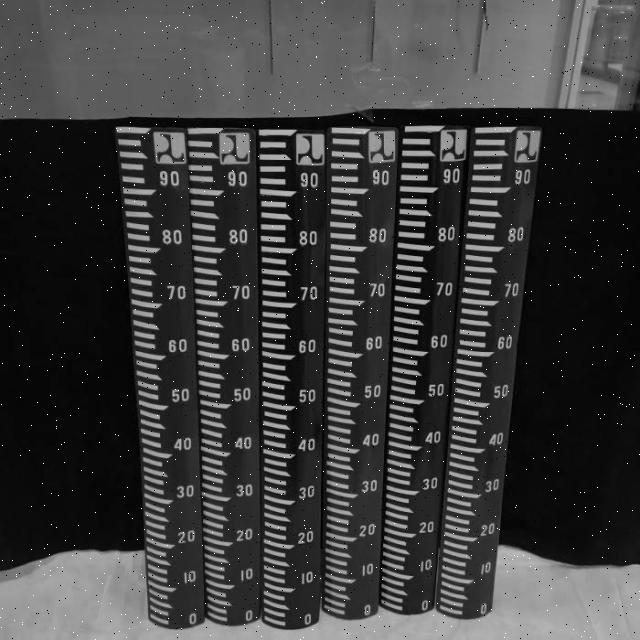10: (299, 569, 316, 587), (238, 566, 255, 583), (478, 560, 493, 578), (418, 558, 434, 574), (182, 570, 199, 585), (361, 562, 374, 578)
20: (234, 527, 254, 542), (297, 530, 314, 546), (358, 522, 375, 538), (479, 521, 495, 538), (177, 531, 195, 545), (418, 520, 436, 534)
30: (298, 484, 316, 500), (360, 478, 378, 494), (421, 476, 439, 491), (176, 484, 195, 498), (485, 478, 501, 494), (235, 484, 252, 498)
40: (171, 434, 192, 453), (296, 436, 317, 454), (233, 434, 253, 452), (361, 432, 380, 449), (426, 428, 441, 447), (488, 432, 504, 448)
50: (230, 386, 252, 402), (492, 383, 510, 401), (170, 388, 190, 403), (298, 388, 316, 404), (363, 385, 381, 399), (429, 382, 444, 398)
60: (296, 337, 318, 356), (167, 337, 188, 355), (230, 336, 251, 353), (496, 334, 515, 351), (430, 334, 449, 350), (364, 336, 382, 351)
70: (163, 283, 186, 302), (500, 280, 521, 300), (296, 284, 318, 303), (230, 284, 252, 302), (435, 280, 454, 297), (367, 282, 385, 299)
80: (227, 225, 250, 248), (366, 225, 389, 247), (160, 227, 184, 247), (507, 226, 528, 247), (436, 226, 458, 243), (298, 230, 318, 247)
90: (154, 168, 184, 190), (370, 165, 391, 190), (297, 170, 321, 190), (227, 169, 250, 188), (441, 167, 461, 187), (515, 167, 534, 187)
staff: (457, 126, 545, 614), (114, 124, 192, 626), (190, 126, 258, 627), (258, 129, 324, 628), (329, 126, 381, 623), (383, 126, 457, 317), (381, 318, 447, 526)
